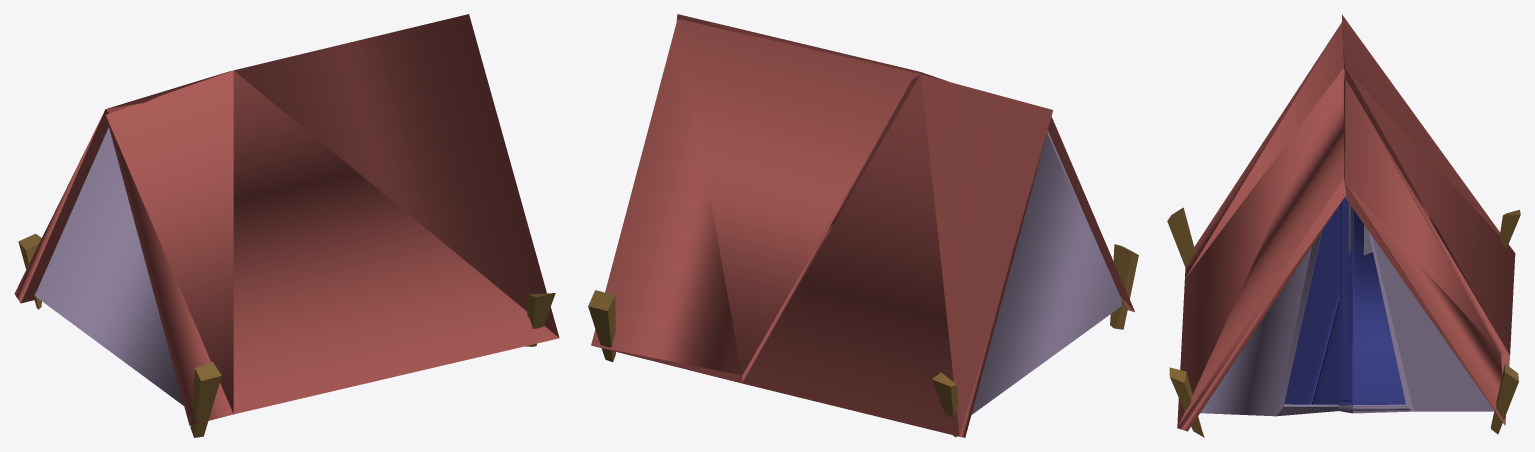
File: tent.fbx
The picture shows the model from 3 angles, left to right: view 1: azimuth 30°, elevation 25°; view 2: azimuth 150°, elevation 25°; view 3: azimuth 270°, elevation 25°; orthographic projection. The views are drawn at different scales.
Parts seen in each view (by area): view 1: tent, tent_wood; view 2: tent, tent_wood; view 3: tent, tent_wood.
Part boxes in pixels (x1=…): tent: x1=14, y1=14, x2=559, y2=425; tent_wood: x1=18, y1=233, x2=555, y2=437; tent: x1=591, y1=14, x2=1134, y2=437; tent_wood: x1=588, y1=244, x2=1138, y2=437; tent: x1=1177, y1=14, x2=1515, y2=431; tent_wood: x1=1167, y1=207, x2=1520, y2=437.
Bounding box in the file's own units: 251 × 183 × 219.
